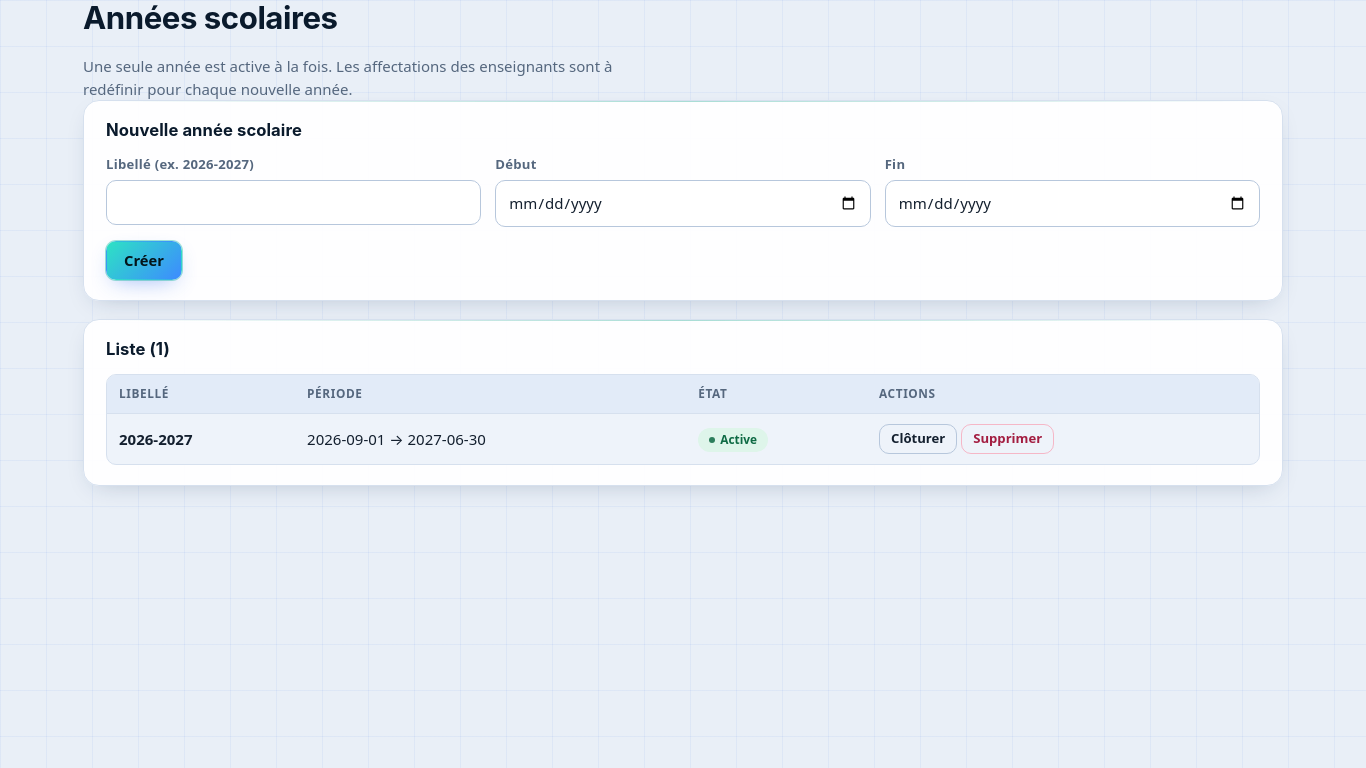
Test: Clôture d’une année › exige le mot de passe administrateur puis affiche le résumé
Click the button "Clôturer". click: click(918, 439)
box: [879,424,957,454]
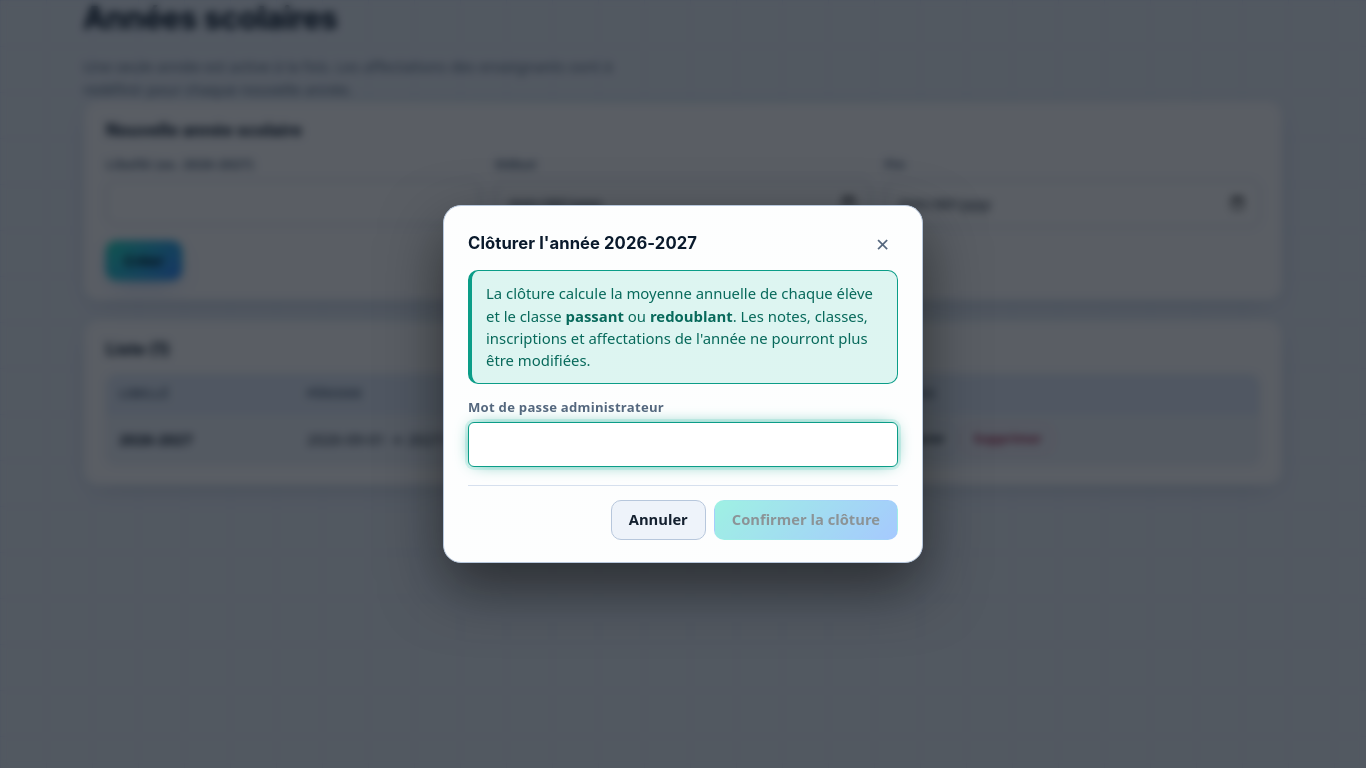
Now the button "Confirmer la clôture" is disabled, box [714,500,898,540]
Type "Secret123!" into the password field labelled "Mot de passe administrateur". click: (683, 445)
box: [468,422,898,467]
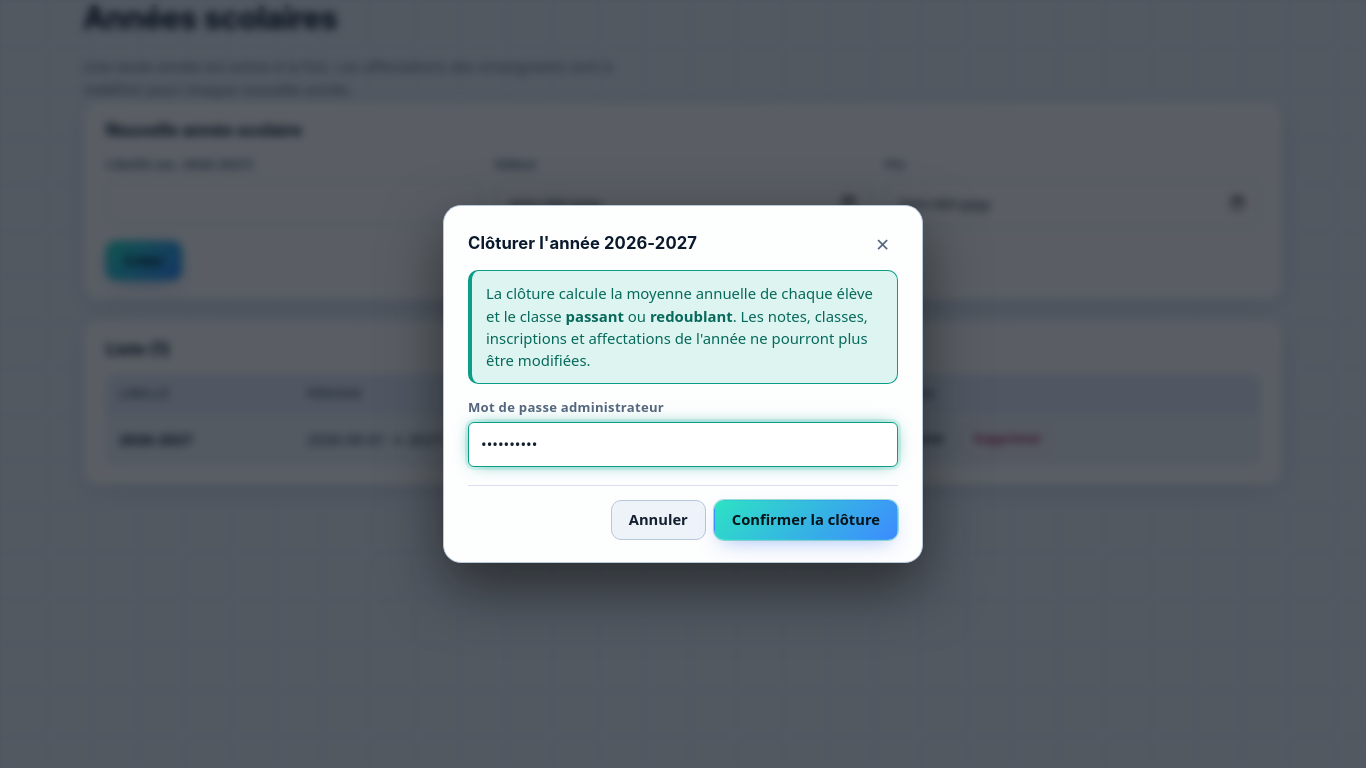
Click the button "Confirmer la clôture". click: click(806, 520)
box: [714,500,898,540]
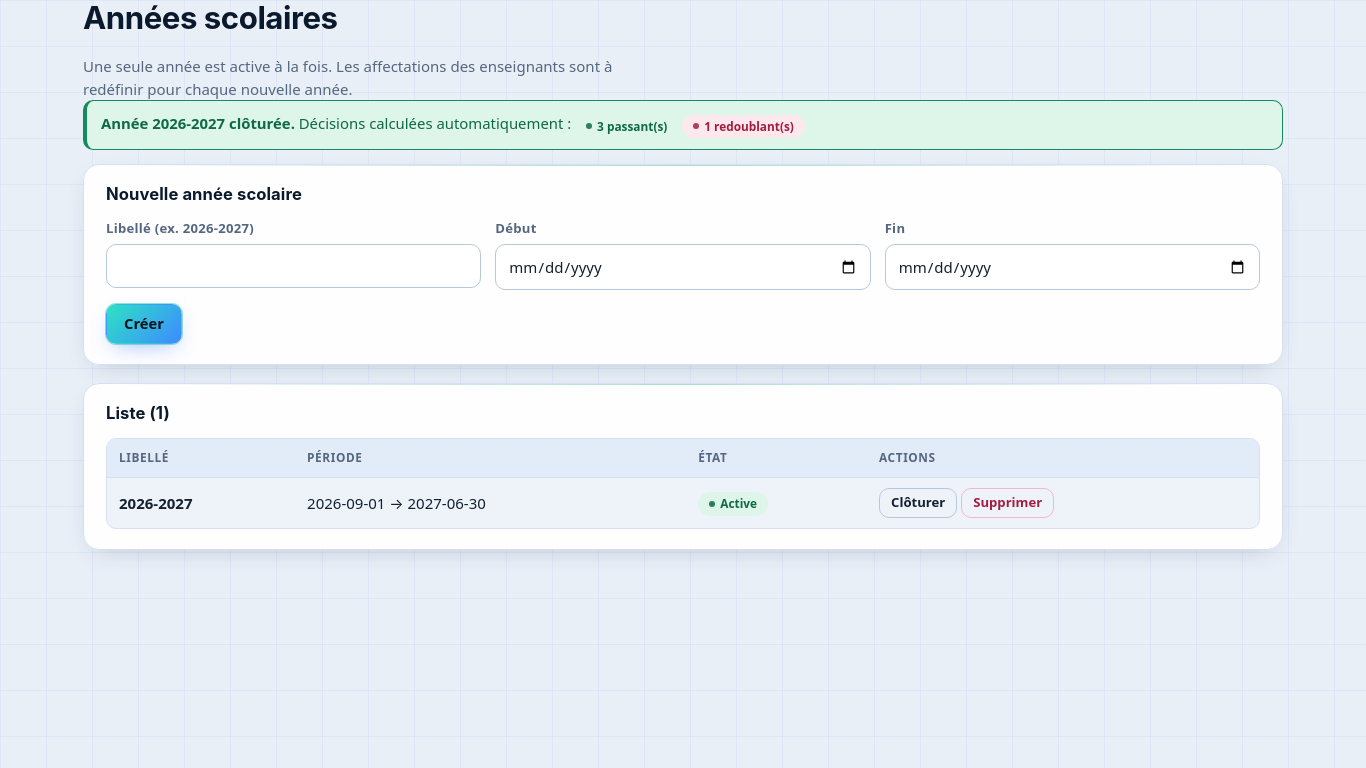
Now the text "3 passant(s)" is shown, box [575,115,678,138]
Now the text "1 redoublant(s)" is shown, box [682,115,805,138]
